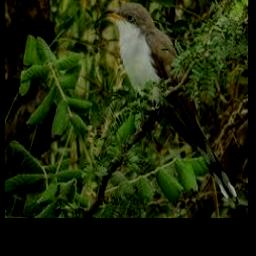Cuckoo: (102, 3, 238, 200)
